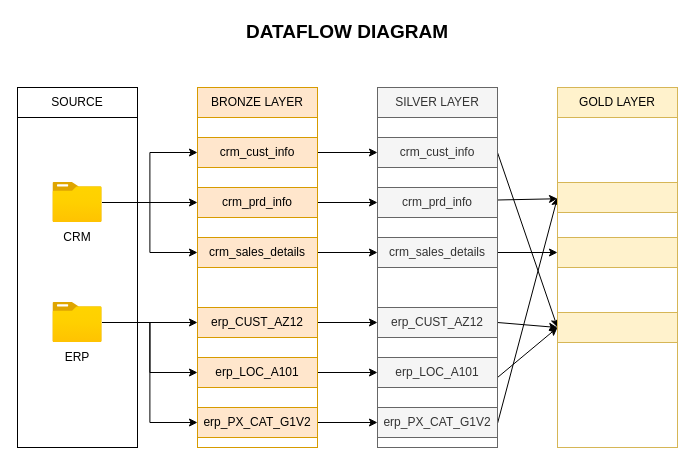
Image size: 695x465. Some labels were removed from this diagram. Each missing label, with the centre of its shape:
"dim_customers" goes at point 617,327.
"dim_products" goes at point 617,197.
"fact_sales" goes at point 617,252.
